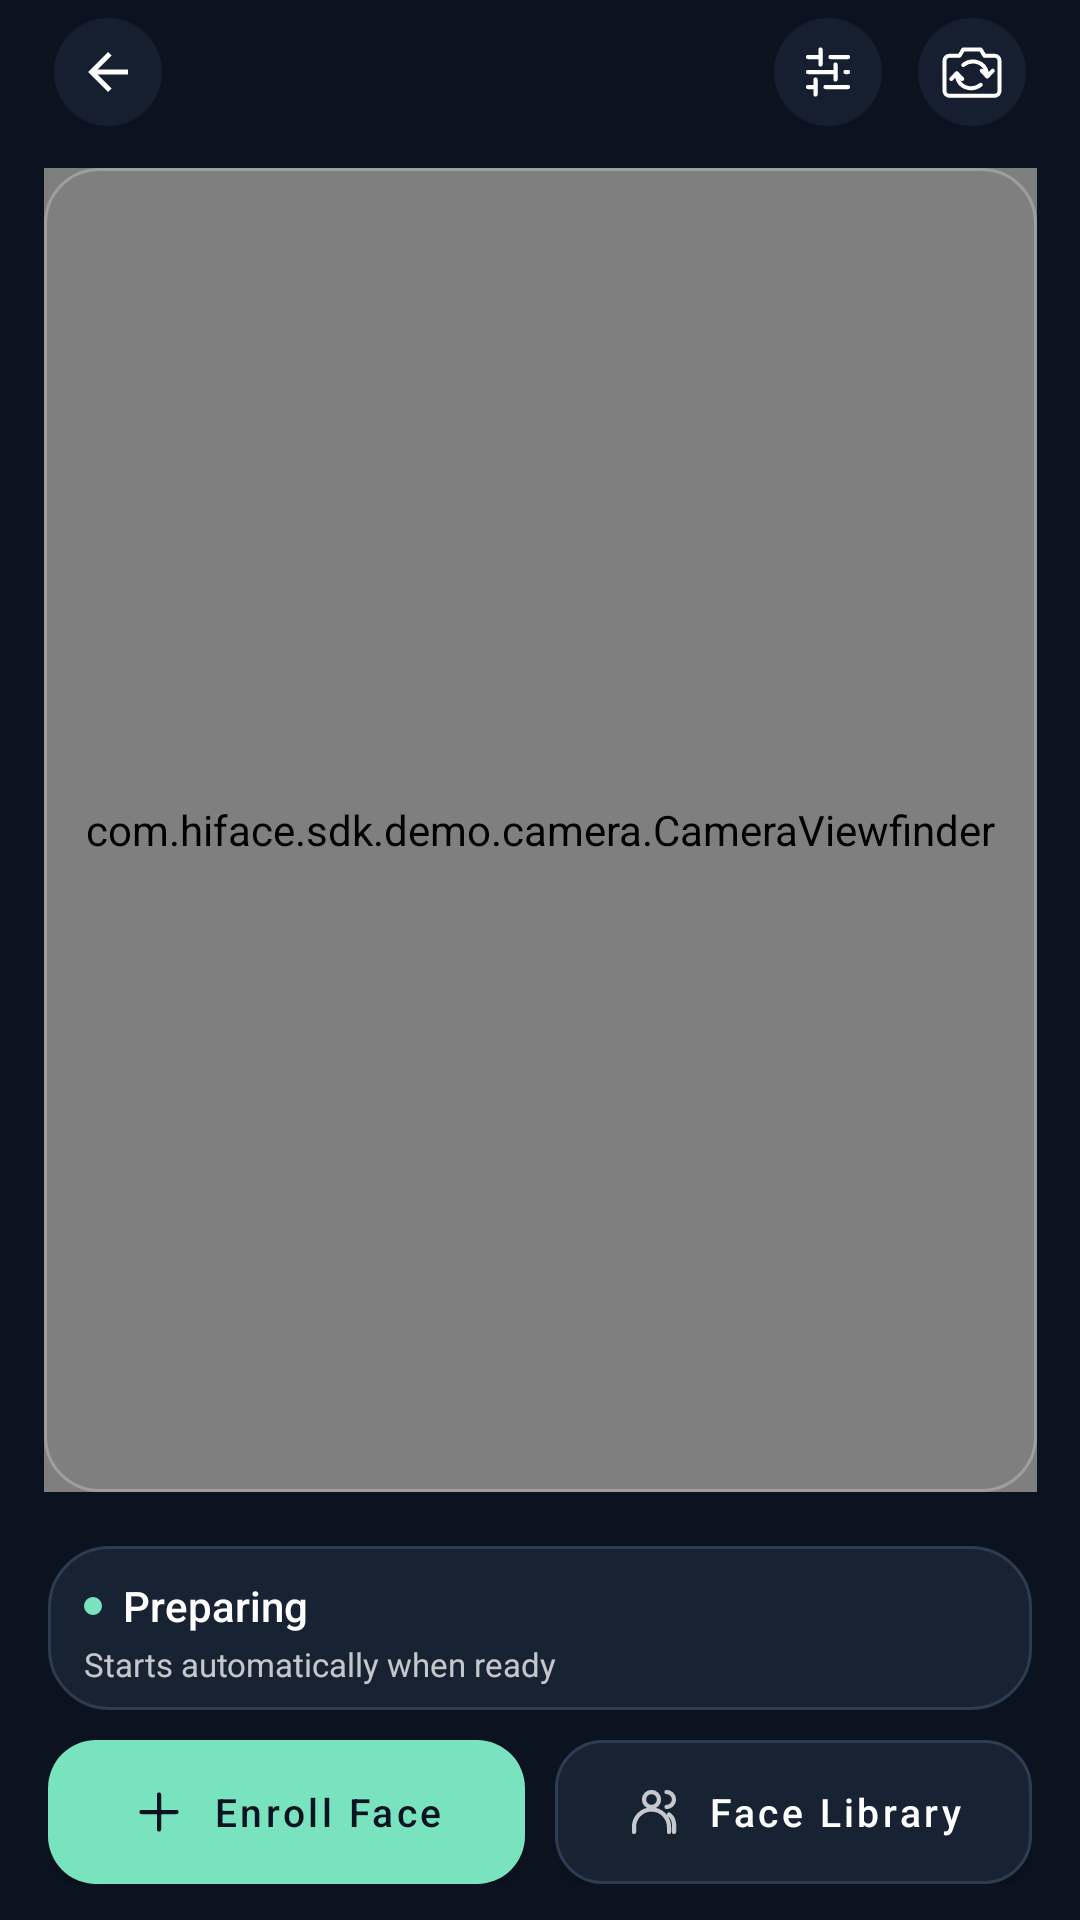

Screen size 1080px x 1920px. Icon name, then its center in pixels as [x,y]:
Back: [108,72]
Switch camera: [972,72]
